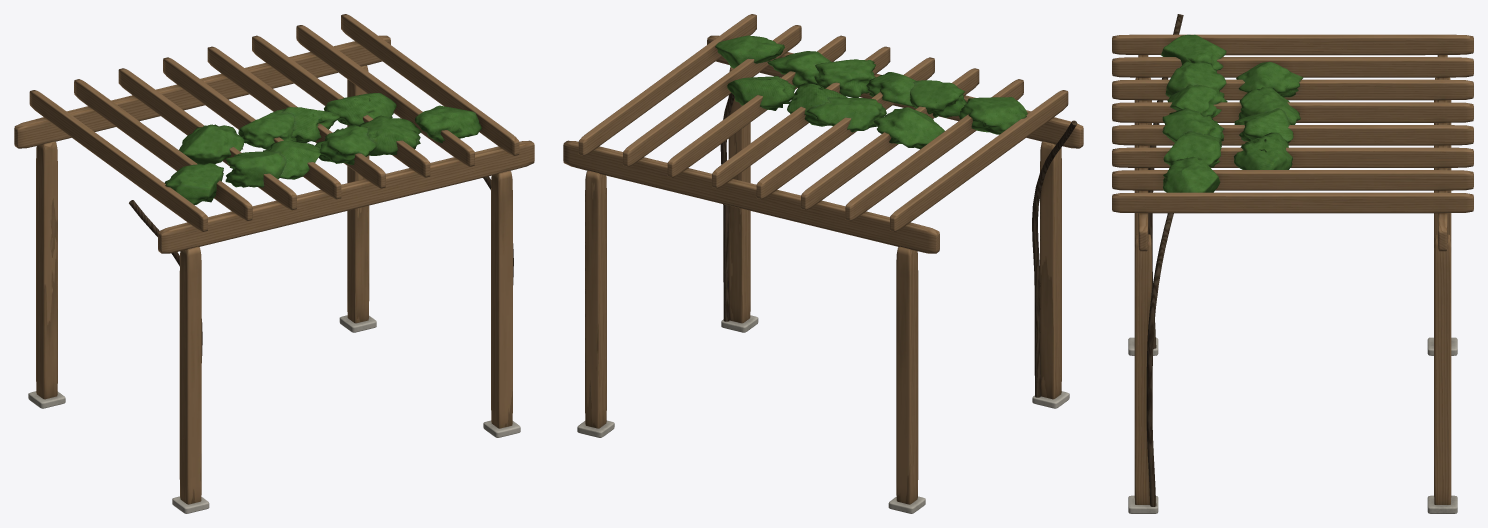
Rendered from cedar-vines.glb.
3 renders of one model, left to right at view 1: azimuth 30°, elevation 25°; view 2: azimuth 150°, elevation 25°; view 3: azimuth 270°, elevation 25°, orthographic. The views are drawn at different scales.
Parts seen in each view (by area): view 1: wood_y, wood_z, vine_leaves, wood_x, footing_stone; view 2: wood_y, wood_z, vine_leaves, wood_x, vine_stem, footing_stone; view 3: wood_y, vine_leaves, wood_z, vine_stem, wood_x, footing_stone.
Part boxes in pixels (x1,y1,x2,y2): wood_y: (29, 14, 519, 231); wood_z: (36, 65, 512, 504); vine_leaves: (164, 93, 481, 204); wood_x: (14, 35, 534, 253); footing_stone: (28, 315, 520, 513); wood_y: (578, 14, 1068, 231); wood_z: (585, 67, 1061, 504); vine_leaves: (715, 35, 1027, 149); wood_x: (563, 35, 1083, 253); vine_stem: (720, 93, 1077, 397); footing_stone: (577, 315, 1069, 513); wood_y: (1112, 34, 1473, 213); vine_leaves: (1161, 34, 1303, 192); wood_z: (1134, 77, 1451, 504); vine_stem: (1146, 14, 1183, 506); wood_x: (1138, 55, 1447, 251); footing_stone: (1128, 337, 1457, 513).
Size of the model in its own units: 3.72 by 2.91 by 2.9.
Materials: 6 (6 with a texture image).
